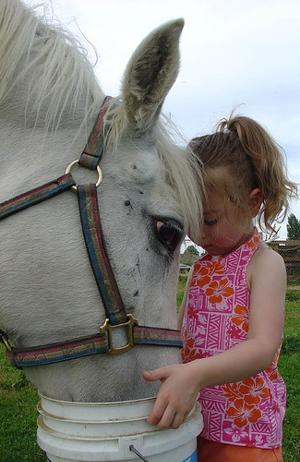person: (142, 118, 286, 460)
